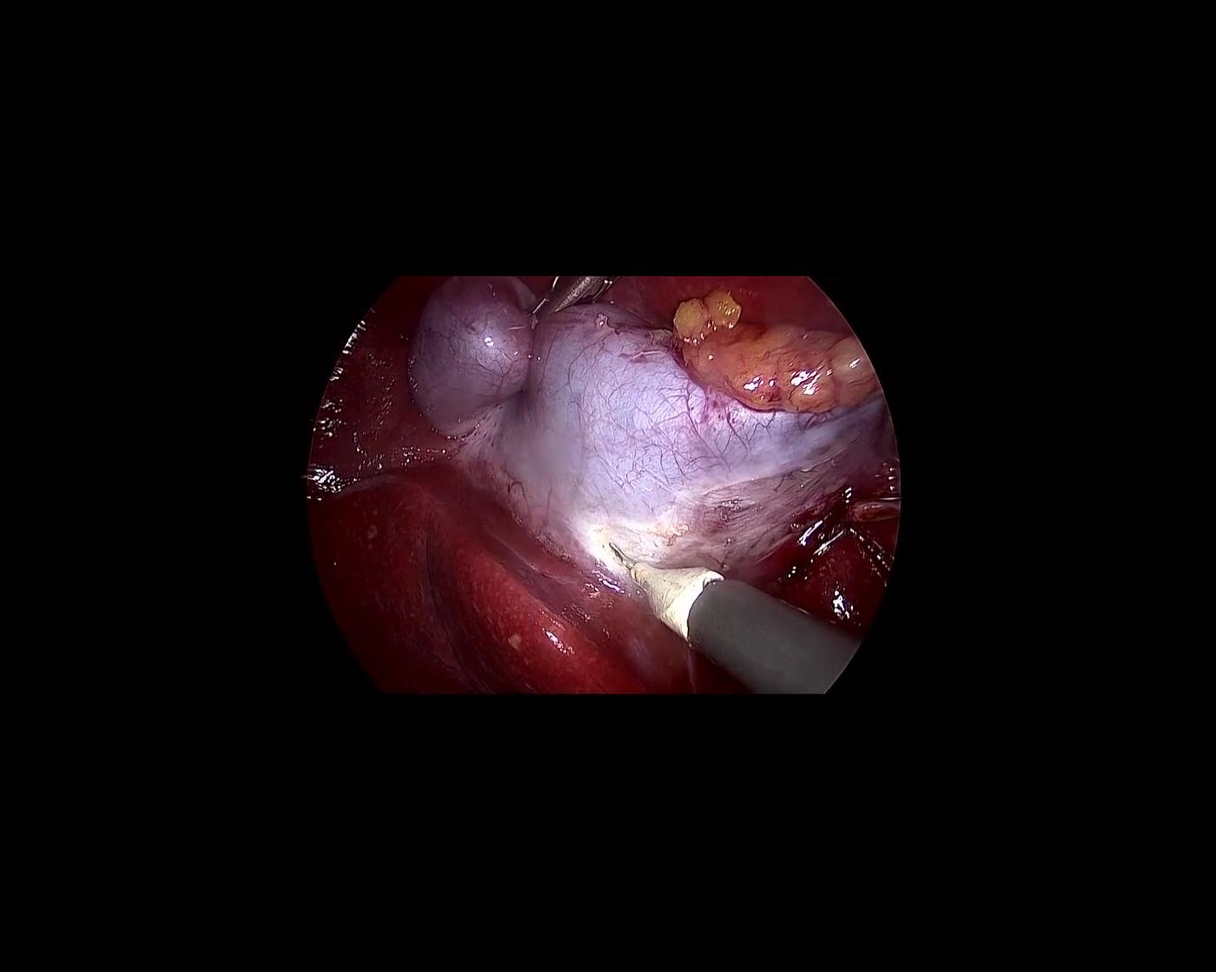Cautery: (576, 526, 858, 721)
Gallbladder: (357, 253, 912, 661)
Liver: (200, 258, 718, 841)
